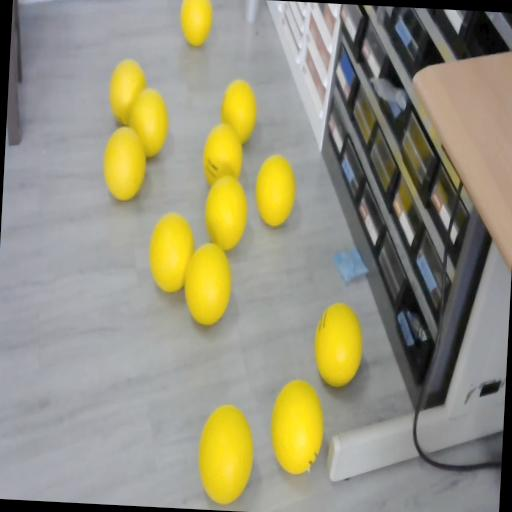FUEL: (196, 402, 256, 504), (268, 376, 326, 476), (312, 300, 364, 388), (182, 241, 234, 326), (146, 208, 197, 294), (202, 174, 250, 252), (100, 124, 148, 202), (254, 152, 298, 228), (108, 58, 148, 126), (220, 78, 260, 144), (177, 0, 213, 47)
